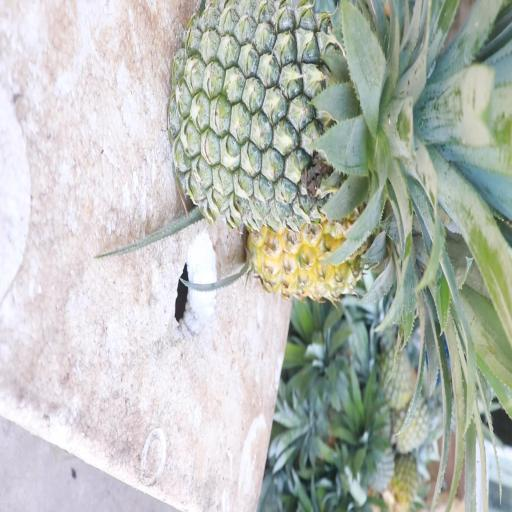Pineapple - v8 v1: (250, 216, 474, 383)
